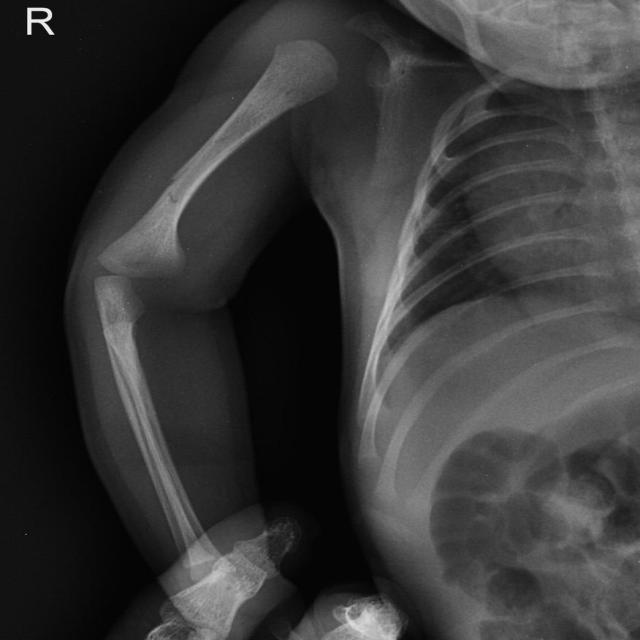Transverse Displaced: (137, 142, 239, 233)
